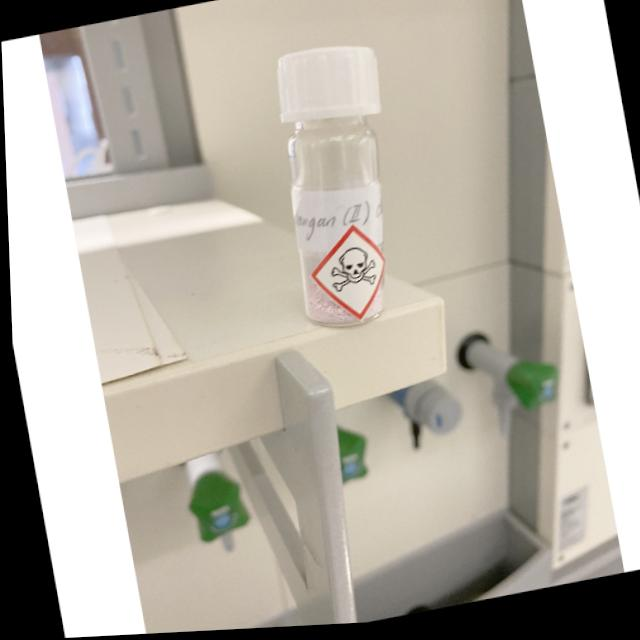acute toxicity: (325, 247, 377, 296)
